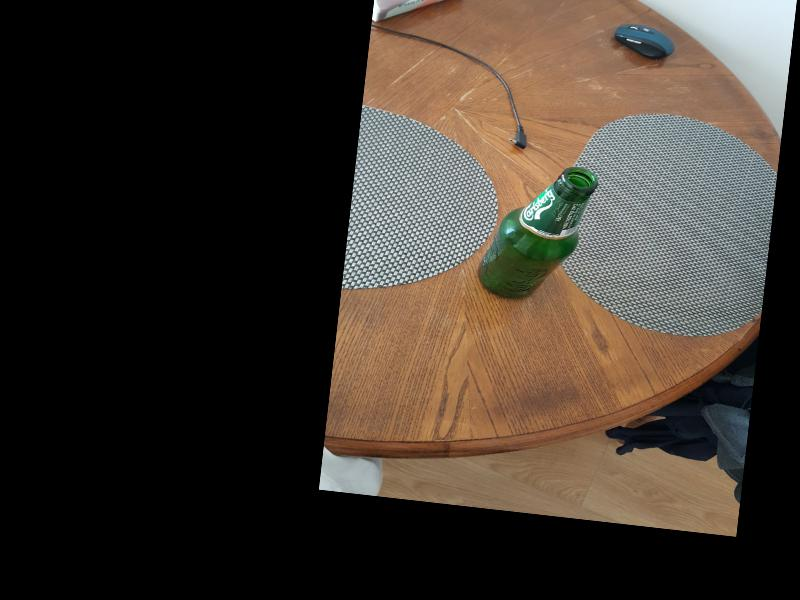Beer: (469, 157, 600, 309)
